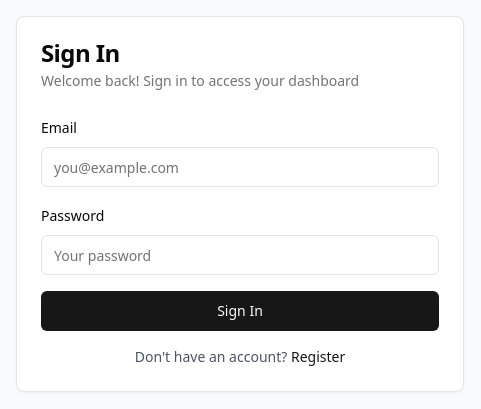
Test: LoginPage › should show loading state during form submission
The image size is (481, 409).
Type "test@example.com" into the field labelled "Email".
click(240, 167); type("test@example.com")  # box [41,147,439,187]
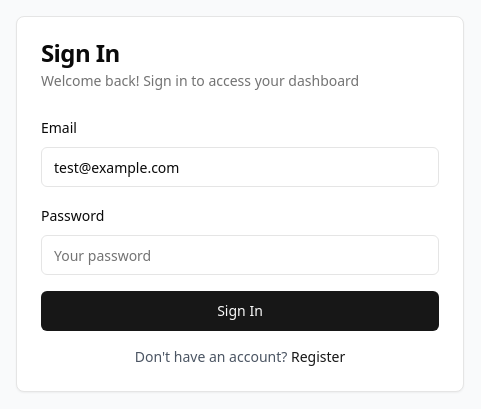
Type "password123" into the password field labelled "Password".
click(240, 255); type("password123")  # box [41,235,439,275]
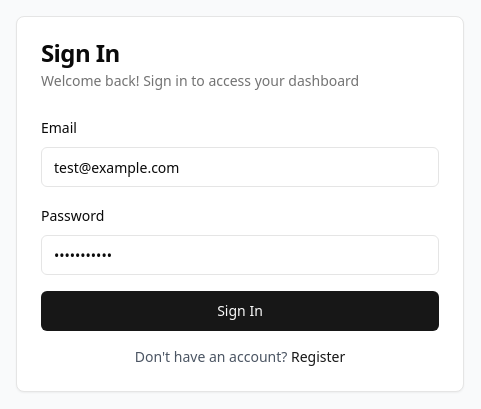
Click the button "Sign In".
click(240, 311)  # box [41,291,439,331]
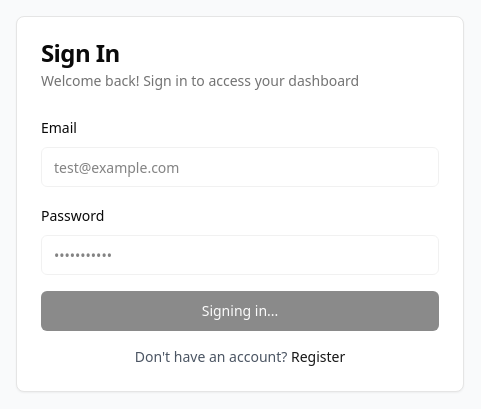
expect the button "Signing in..." is shown: met, box [41,291,439,331]
